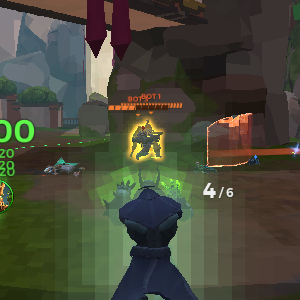model: (134, 119, 168, 165)
